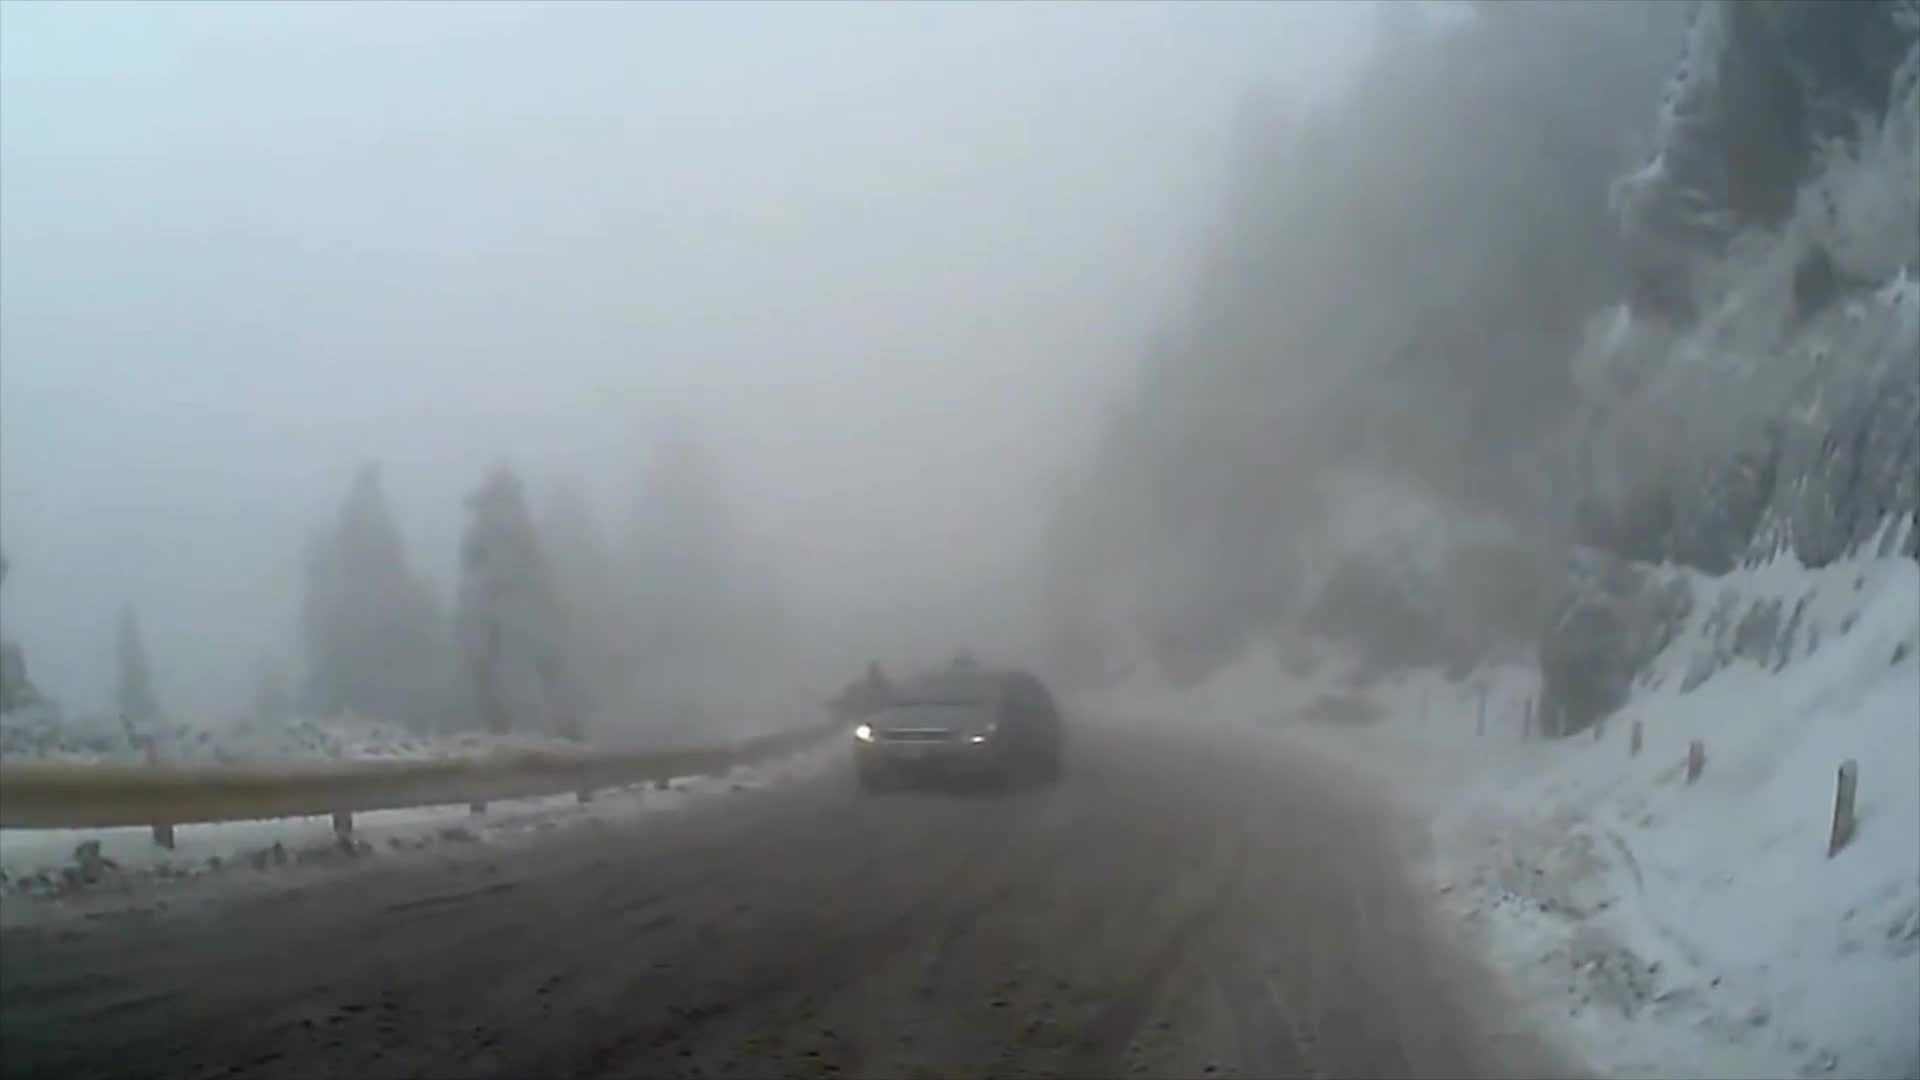vehicle: (857, 667, 1064, 799)
